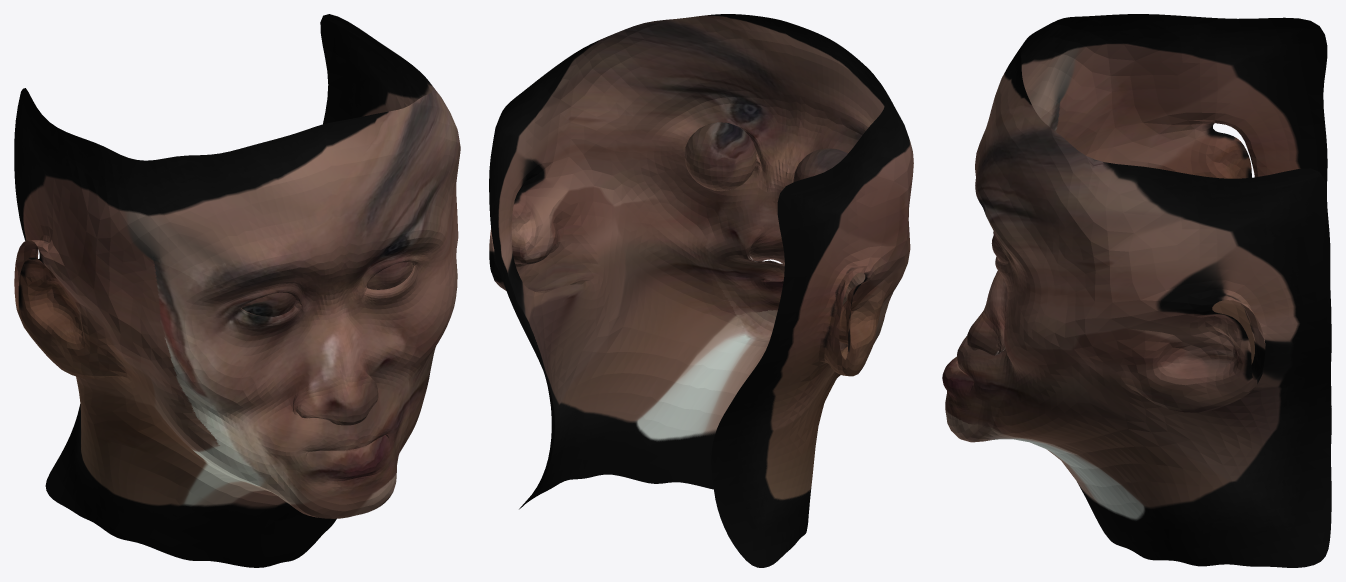
File: baseline.glb
3 views of the same model, side by side, from view 1: azimuth 30°, elevation 25°; view 2: azimuth 150°, elevation 25°; view 3: azimuth 270°, elevation 25° (orthographic). The views are drawn at different scales.
Visible parts, largest first — view 1: geometry_0; view 2: geometry_0; view 3: geometry_0.
Boxes of the visible parts, x1,y1,x2,y2 form: geometry_0: (14,14,460,567); geometry_0: (489,14,913,567); geometry_0: (942,14,1331,567).
Bounding box in the file's own units: 0.1711 × 0.2045 × 0.1538.
1 material, 1 textured.
